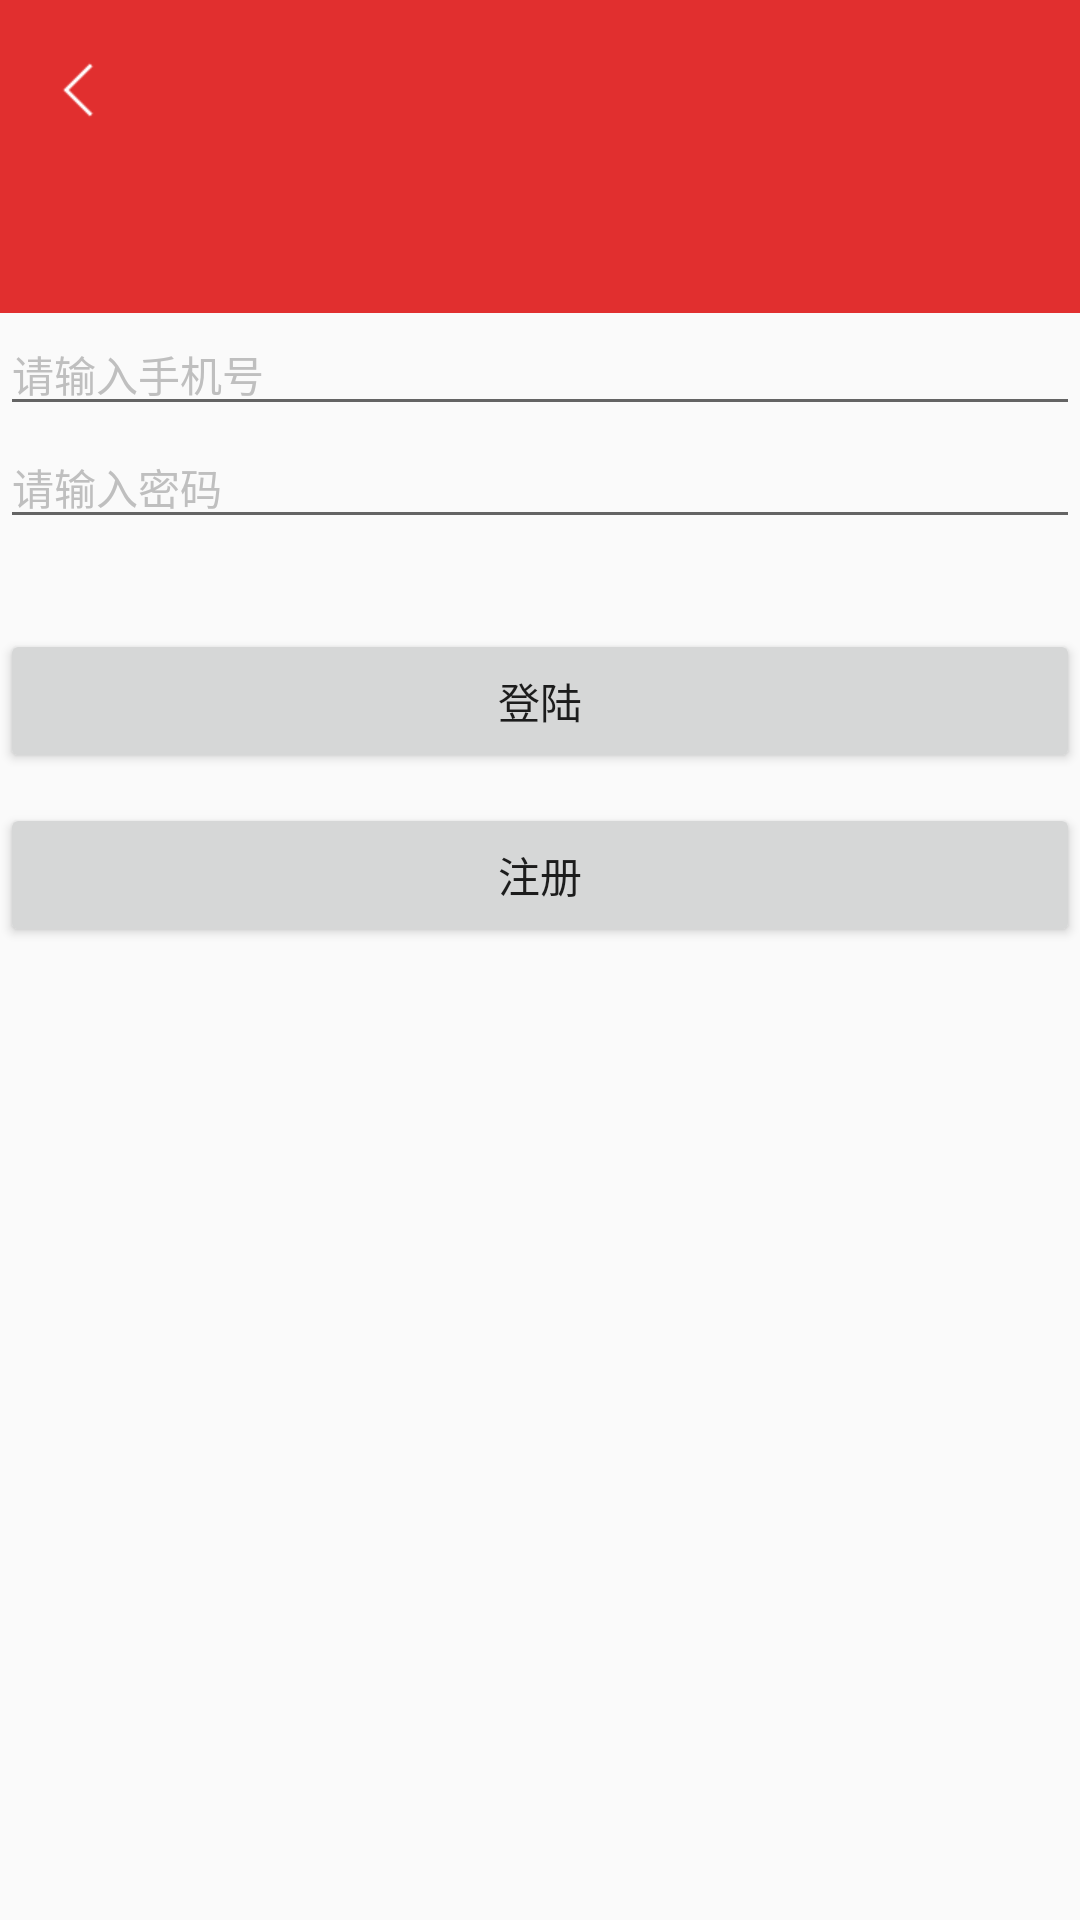

Where to tap for icons on this 1080w x 1920h app screen, as [x,y]:
go back: [78,90]
